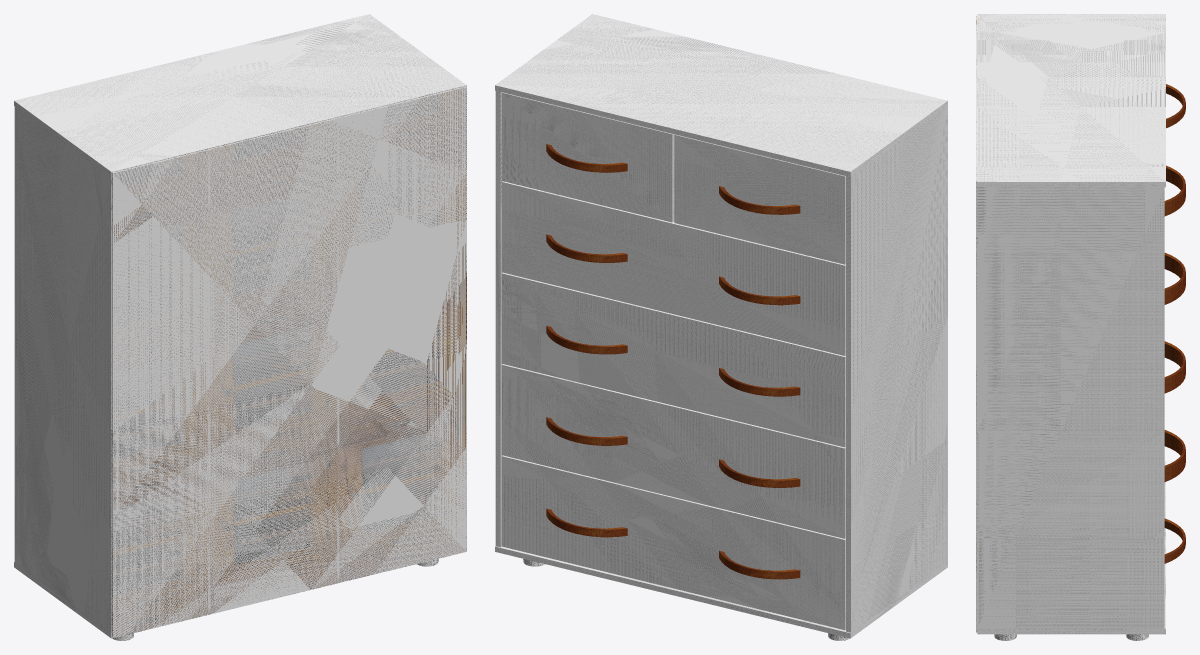
The picture shows the model from 3 angles, left to right: view 1: azimuth 30°, elevation 25°; view 2: azimuth 150°, elevation 25°; view 3: azimuth 270°, elevation 25°; orthographic projection. The views are drawn at different scales.
Parts seen in each view (by area): view 1: mesh74_mesh74-geometry, mesh49_mesh49-geometry, mesh42_mesh42-geometry, mesh41_mesh41-geometry; view 2: mesh49_mesh49-geometry, mesh42_mesh42-geometry, mesh33_mesh33-geometry, mesh94_mesh94-geometry, mesh22_mesh22-geometry, mesh11_mesh11-geometry, mesh80_mesh80-geometry, mesh37_mesh37-geometry, mesh41_mesh41-geometry, mesh48_mesh48-geometry, mesh26_mesh26-geometry, mesh23_mesh23-geometry (+8 smaller); view 3: mesh48_mesh48-geometry, mesh42_mesh42-geometry, mesh41_mesh41-geometry, mesh74_mesh74-geometry, mesh4_mesh4-geometry, mesh87_mesh87-geometry, mesh15_mesh15-geometry, mesh26_mesh26-geometry, mesh77_mesh77-geometry, mesh34_mesh34-geometry.
Boxes of the visible parts, <box> form: mesh74_mesh74-geometry: <box>112,86,466,637</box>; mesh49_mesh49-geometry: <box>14,107,112,633</box>; mesh42_mesh42-geometry: <box>14,14,466,177</box>; mesh41_mesh41-geometry: <box>14,546,466,638</box>; mesh49_mesh49-geometry: <box>846,106,947,632</box>; mesh42_mesh42-geometry: <box>495,14,947,177</box>; mesh33_mesh33-geometry: <box>501,272,845,447</box>; mesh94_mesh94-geometry: <box>501,455,845,630</box>; mesh22_mesh22-geometry: <box>501,181,845,355</box>; mesh11_mesh11-geometry: <box>501,364,845,538</box>; mesh80_mesh80-geometry: <box>501,92,674,222</box>; mesh37_mesh37-geometry: <box>674,134,845,264</box>; mesh41_mesh41-geometry: <box>495,546,947,638</box>; mesh48_mesh48-geometry: <box>495,91,502,547</box>; mesh26_mesh26-geometry: <box>546,326,627,354</box>; mesh23_mesh23-geometry: <box>719,368,800,396</box>; mesh48_mesh48-geometry: <box>977,187,1164,628</box>; mesh42_mesh42-geometry: <box>977,14,1165,187</box>; mesh41_mesh41-geometry: <box>977,461,1165,634</box>; mesh74_mesh74-geometry: <box>976,15,977,632</box>; mesh4_mesh4-geometry: <box>1164,430,1185,474</box>; mesh87_mesh87-geometry: <box>1164,518,1185,563</box>; mesh15_mesh15-geometry: <box>1164,252,1185,297</box>; mesh26_mesh26-geometry: <box>1164,341,1185,386</box>; mesh77_mesh77-geometry: <box>1164,165,1185,210</box>; mesh34_mesh34-geometry: <box>1166,84,1185,128</box>.
Bounding box in the file's own units: 0.5823 × 0.7528 × 0.3069.
